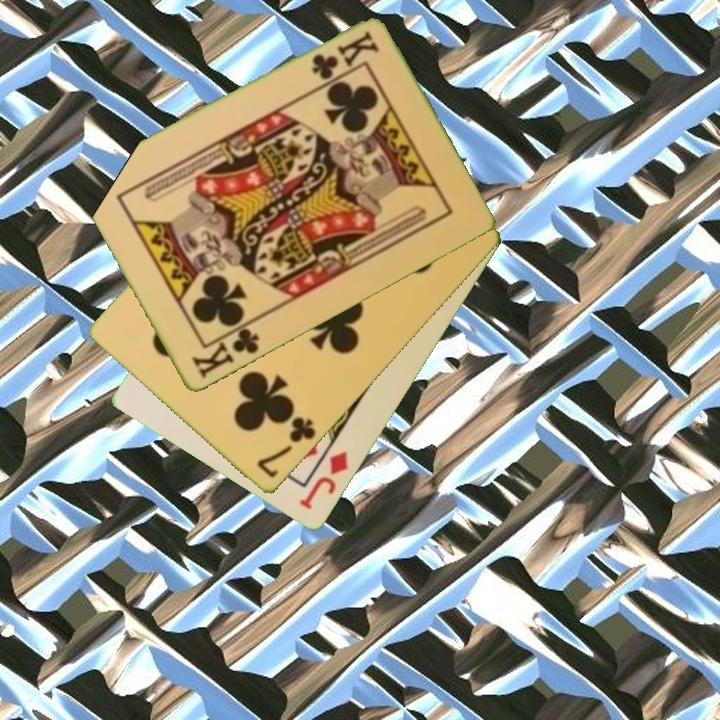7c: (253, 413, 319, 482)
Jd: (296, 448, 352, 513)
Kc: (187, 319, 262, 382), (307, 28, 382, 83)
